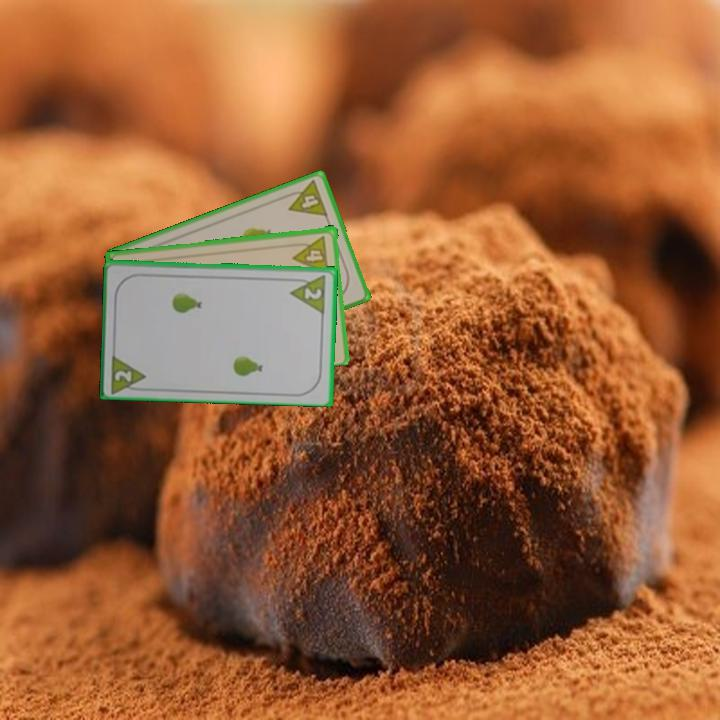2p: (288, 271, 329, 315), (111, 366, 135, 384)
4p: (281, 177, 331, 219), (289, 231, 332, 276)
